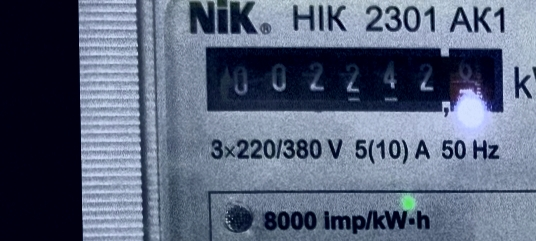0: (229, 63, 249, 97), (267, 60, 287, 93)
2: (305, 60, 325, 92), (342, 60, 360, 94), (416, 61, 434, 93)
4: (380, 58, 397, 91)
6: (456, 54, 472, 82)
screen: (193, 32, 513, 127)
